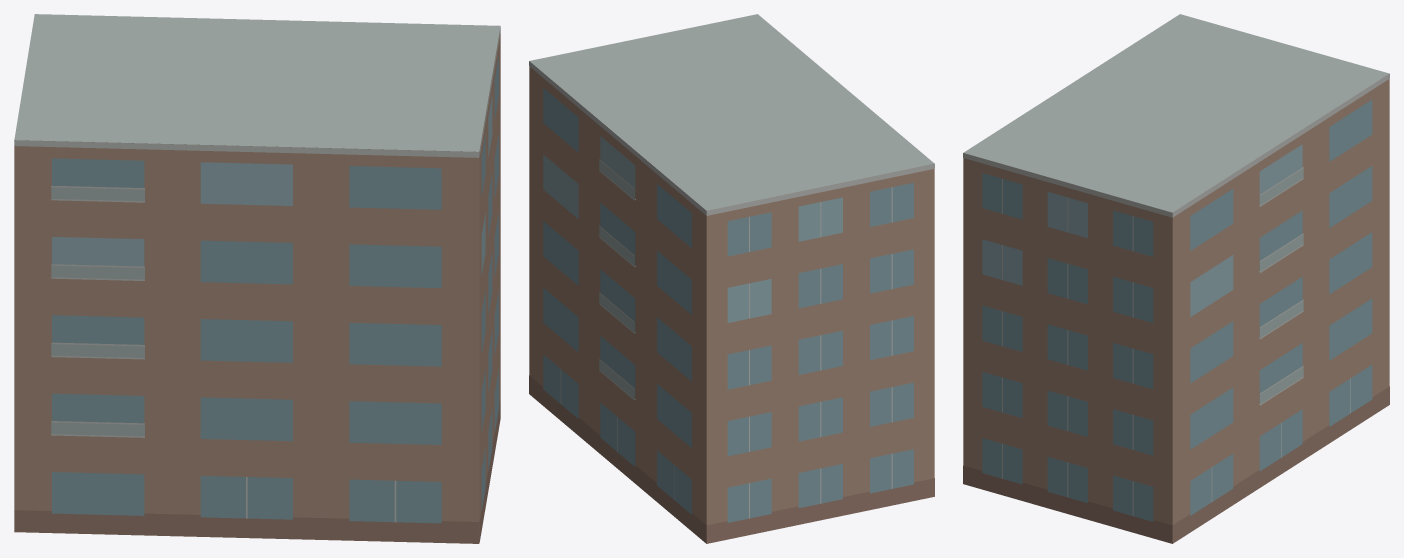
Rendered from survey-upis-32768417.glb.
The picture shows the model from 3 angles, left to right: view 1: azimuth 30°, elevation 25°; view 2: azimuth 150°, elevation 25°; view 3: azimuth 270°, elevation 25°; orthographic projection. The views are drawn at different scales.
Visible parts, largest first — view 1: survey-upis-32768417.tmp; view 2: survey-upis-32768417.tmp; view 3: survey-upis-32768417.tmp.
Boxes of the visible parts, left/top/right/bottom form: survey-upis-32768417.tmp: left=14, top=14, right=500, bottom=543; survey-upis-32768417.tmp: left=529, top=14, right=934, bottom=543; survey-upis-32768417.tmp: left=963, top=14, right=1389, bottom=543.
Bounding box in the file's own units: 20.46 × 15.9 × 18.57.
